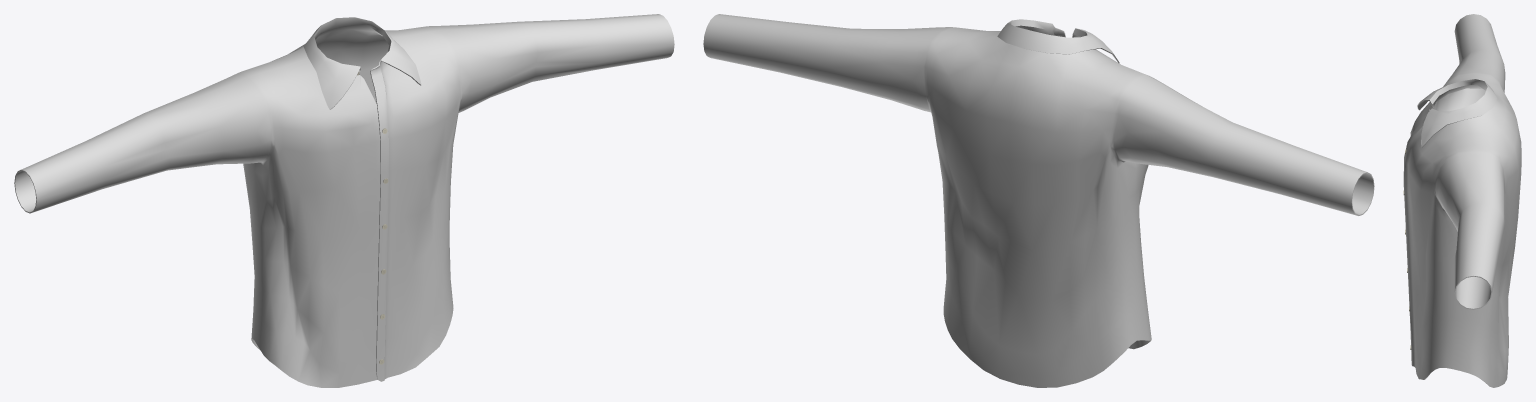
Rendered from shirt8.glb.
3 renders of one model, left to right at view 1: azimuth 30°, elevation 25°; view 2: azimuth 150°, elevation 25°; view 3: azimuth 270°, elevation 25°, orthographic. The views are drawn at different scales.
Size of the model in its own units: 1.31 by 0.6682 by 0.2504.
Materials: 1 (1 with a texture image).
